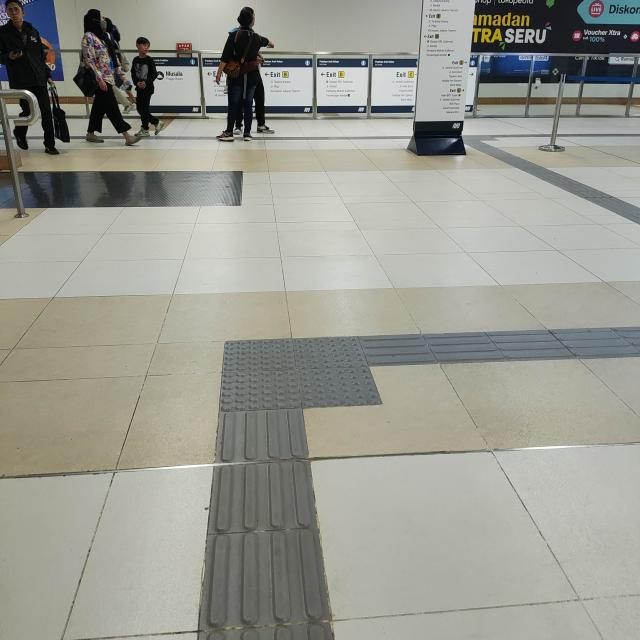kanan: (195, 305, 481, 432)
